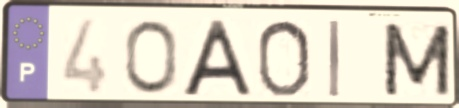4: (59, 16, 111, 97)
A: (178, 17, 257, 99)
I: (326, 18, 343, 100)
M: (379, 20, 453, 98)
O: (254, 18, 313, 100), (121, 18, 180, 97)
